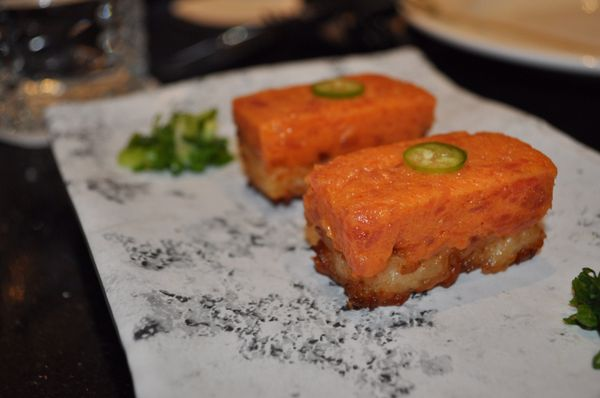curry: (114, 106, 235, 177)
soup: (302, 127, 558, 309), (232, 72, 438, 203)
